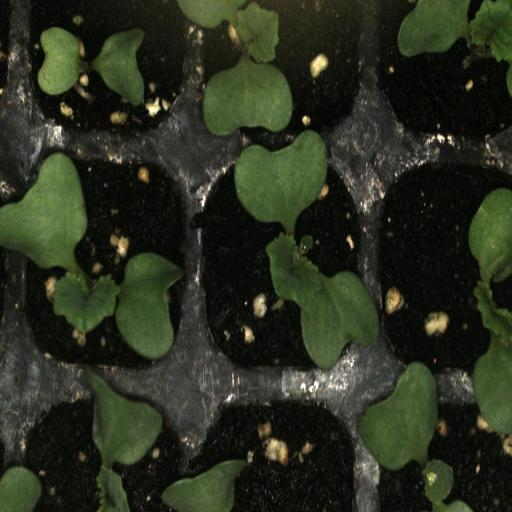Folha: (355, 361, 472, 512), (468, 188, 512, 437), (397, 0, 512, 64), (162, 460, 245, 512)
Germinacao: (13, 144, 197, 382), (196, 142, 371, 384), (372, 141, 512, 381), (18, 0, 198, 143), (196, 0, 371, 146)
